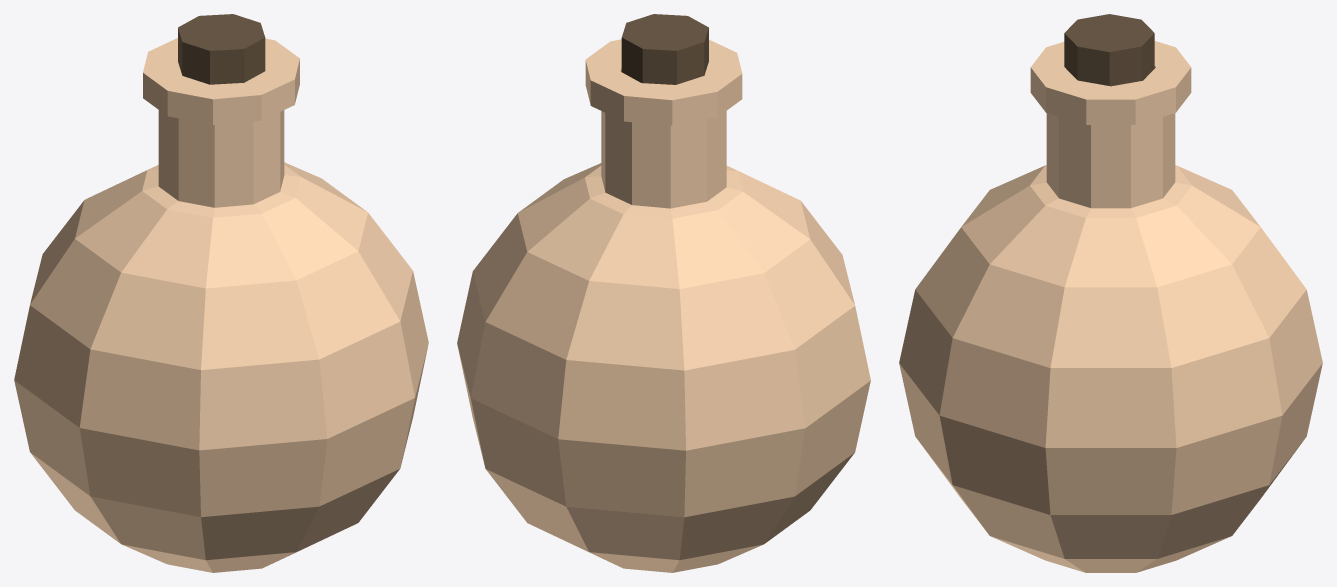
File: botol.fbx
3 views of the same model, side by side, from view 1: azimuth 30°, elevation 25°; view 2: azimuth 150°, elevation 25°; view 3: azimuth 270°, elevation 25° (orthographic).
Parts seen in each view (by area): view 1: LabuBawah.001; view 2: LabuBawah.001; view 3: LabuBawah.001.
Part boxes in pixels (left/top/right/bottom): LabuBawah.001: left=14, top=14, right=428, bottom=572; LabuBawah.001: left=457, top=14, right=870, bottom=572; LabuBawah.001: left=899, top=14, right=1322, bottom=572.
Size of the model in its own units: 97.76 by 140 by 103.
